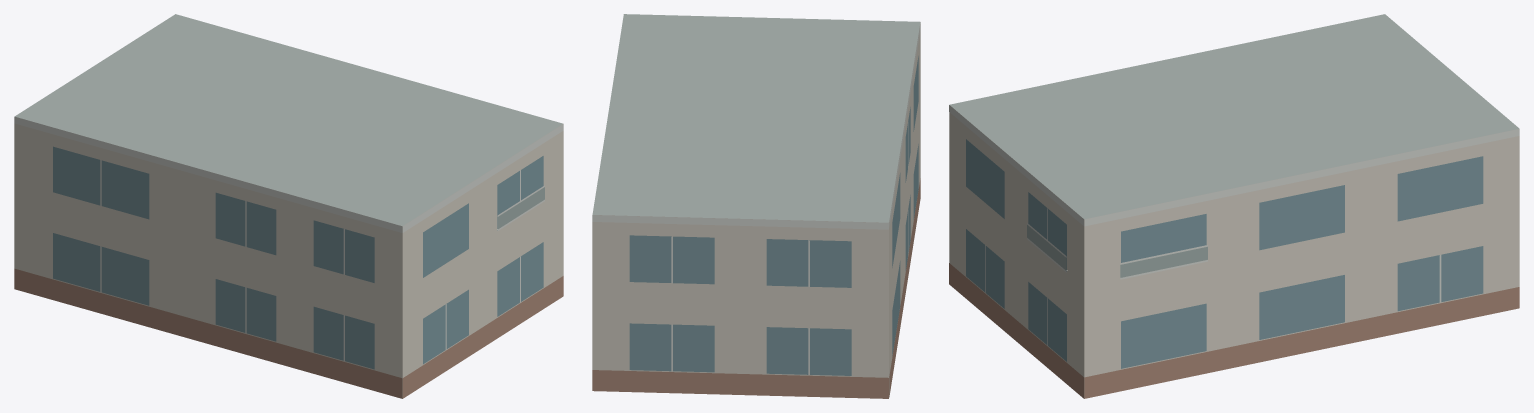
Rendered from survey-upis-32705600.glb.
3 renders of one model, left to right at view 1: azimuth 30°, elevation 25°; view 2: azimuth 150°, elevation 25°; view 3: azimuth 270°, elevation 25°, orthographic. The views are drawn at different scales.
Parts seen in each view (by area): view 1: survey-upis-32705600.tmp; view 2: survey-upis-32705600.tmp; view 3: survey-upis-32705600.tmp.
Part boxes in pixels (x1,y1,x2,y2): survey-upis-32705600.tmp: (14,14,563,398); survey-upis-32705600.tmp: (592,14,920,398); survey-upis-32705600.tmp: (949,14,1519,398).
Bounding box in the file's own units: 14.97 × 6.1 × 17.58.
